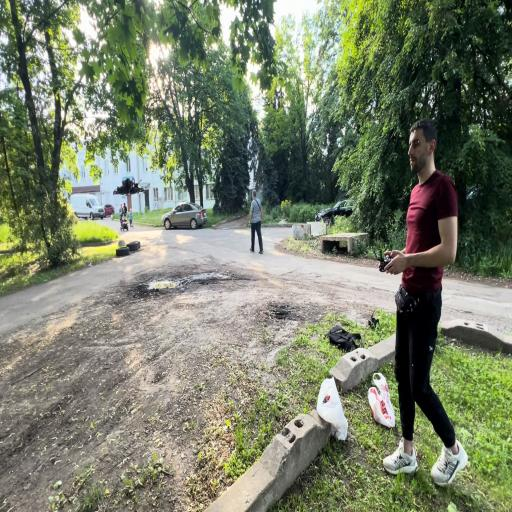drone: (113, 176, 146, 197)
